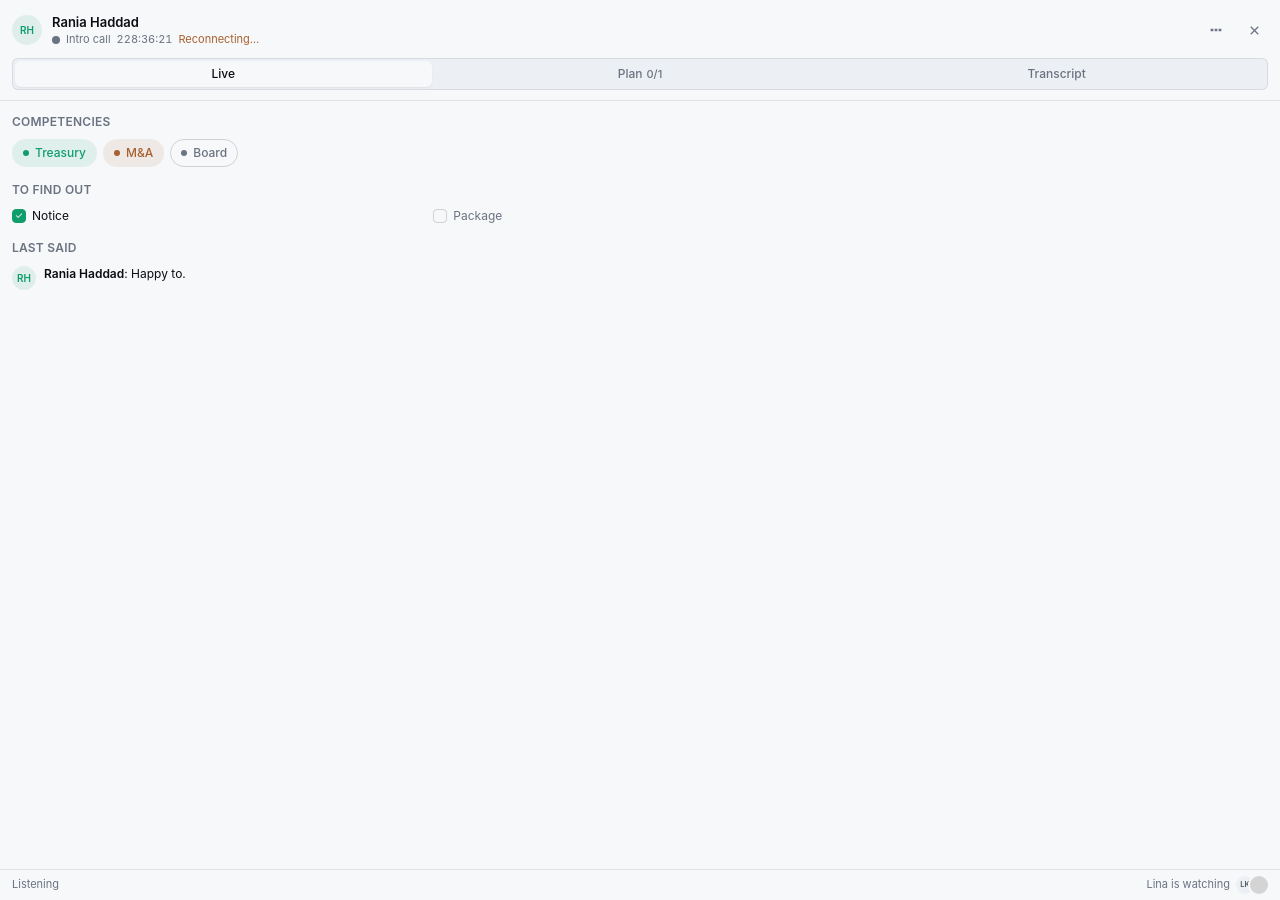
Test: CopilotPanel › asks only for the lines after the last one held, and keeps the ones it has
Click the tab "Plan0/1": coordinates (640, 74) x1=432 y1=61 x2=848 y2=87
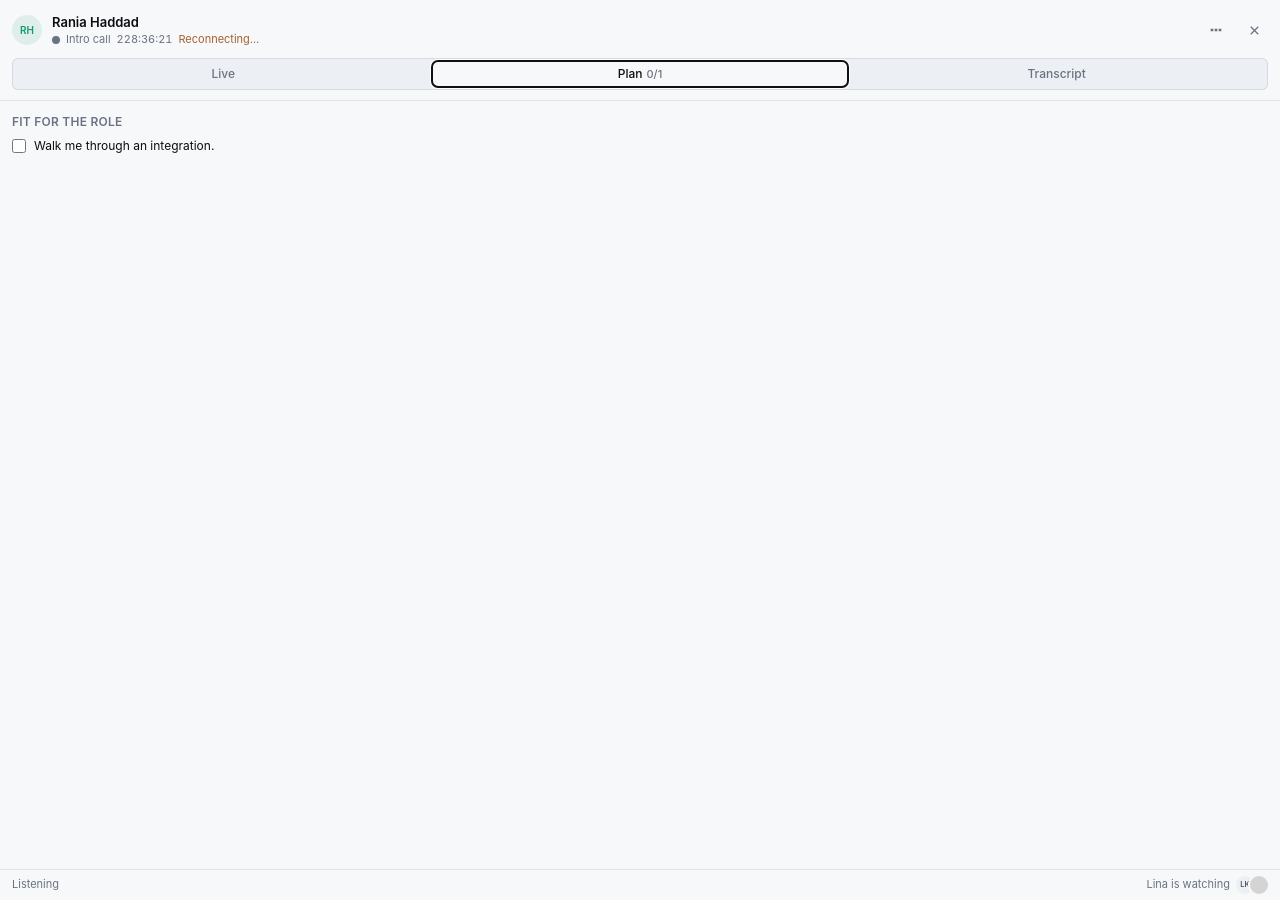
Click the checkbox: coordinates (19, 146) x1=12 y1=139 x2=26 y2=153
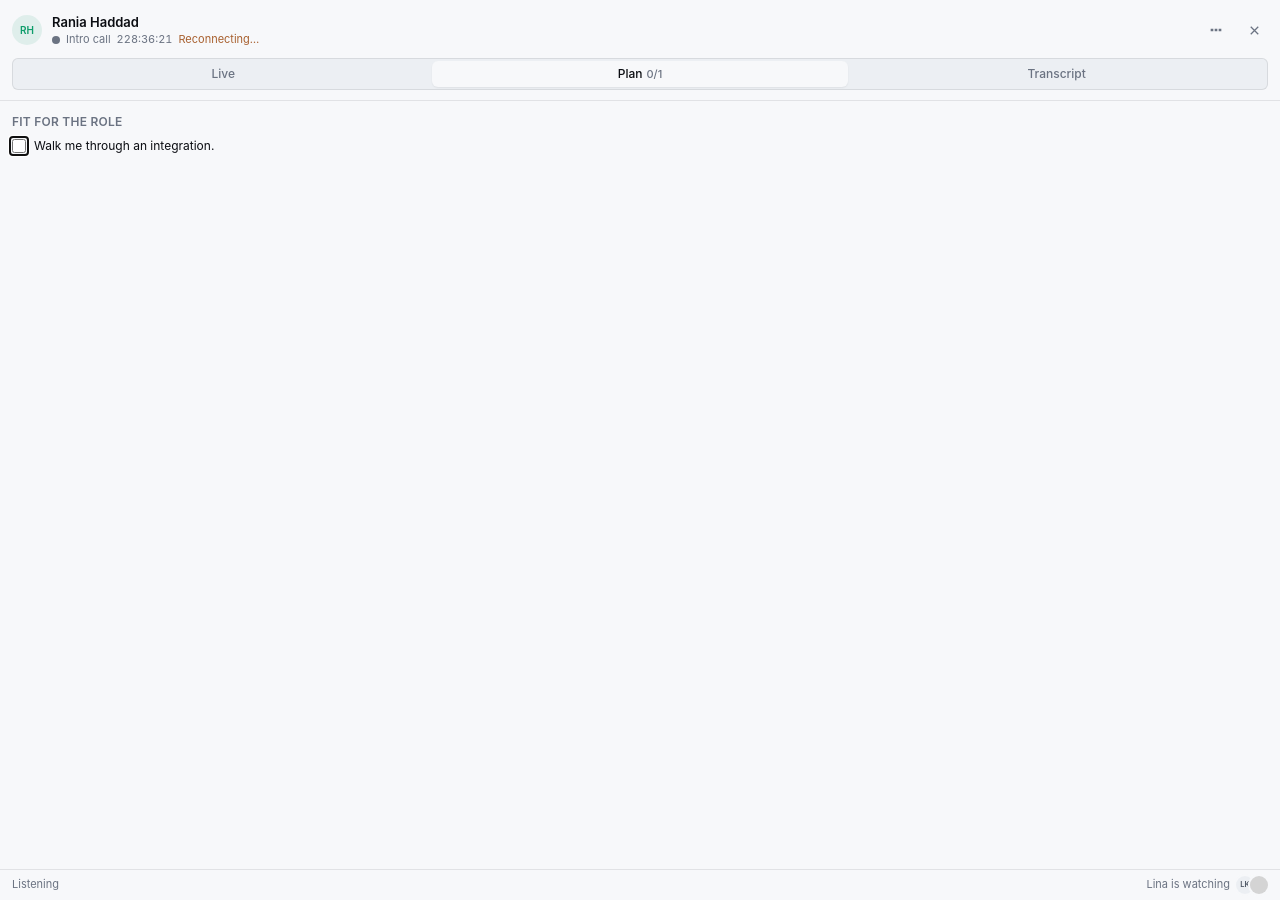
Click the tab "Transcript": coordinates (1057, 74) x1=848 y1=61 x2=1265 y2=87
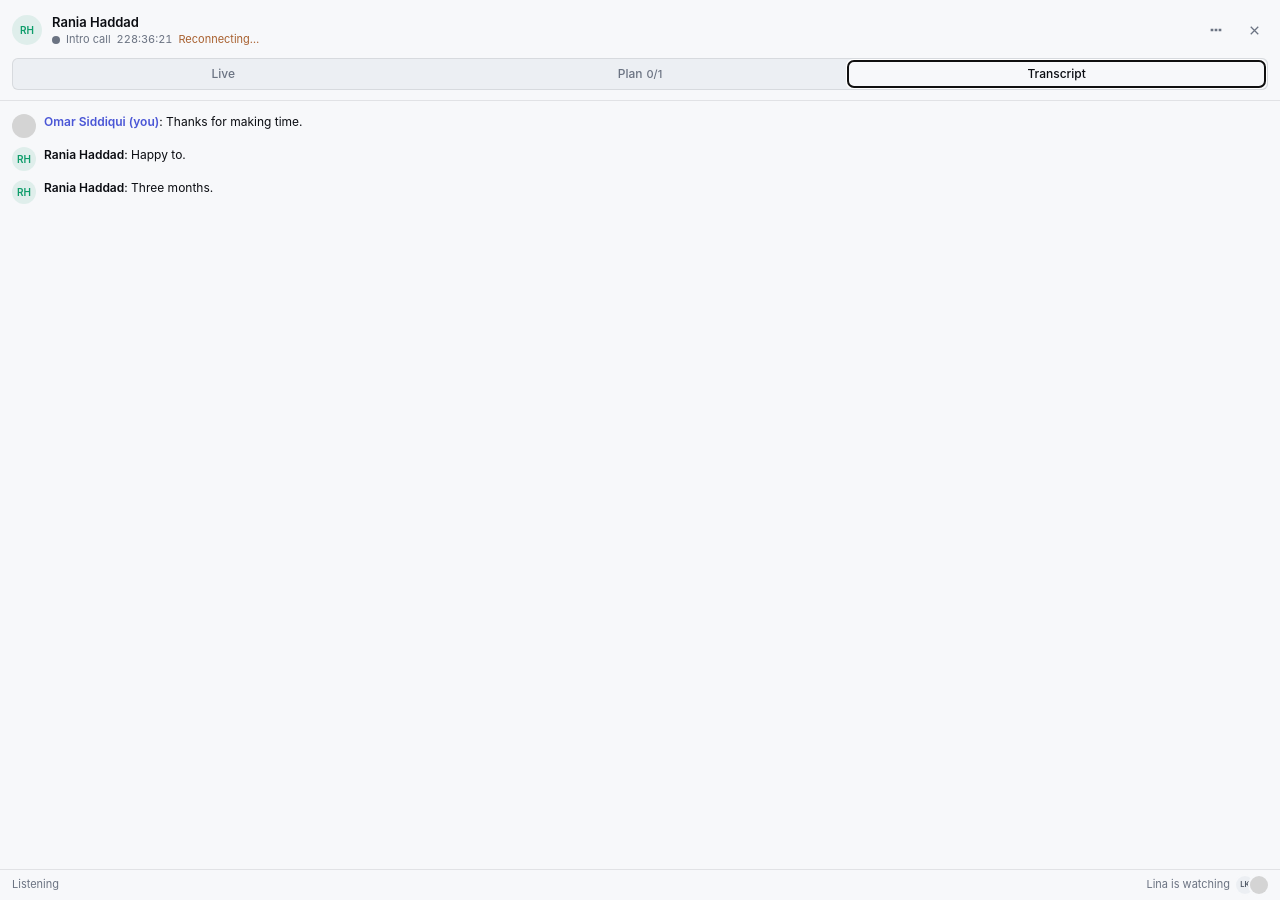
Expected: the text "Rania Haddad: Three months." is shown, x1=44 y1=179 x2=213 y2=197
Expected: the text "Rania Haddad: Happy to." is shown, x1=44 y1=146 x2=186 y2=164
